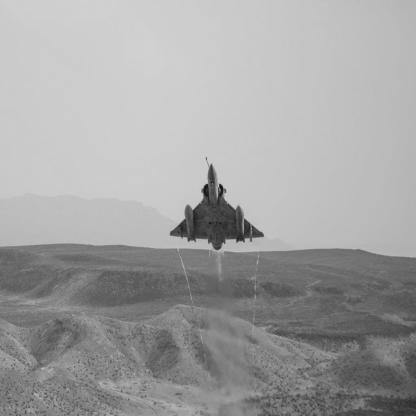Mirage2000: (170, 157, 265, 251)
